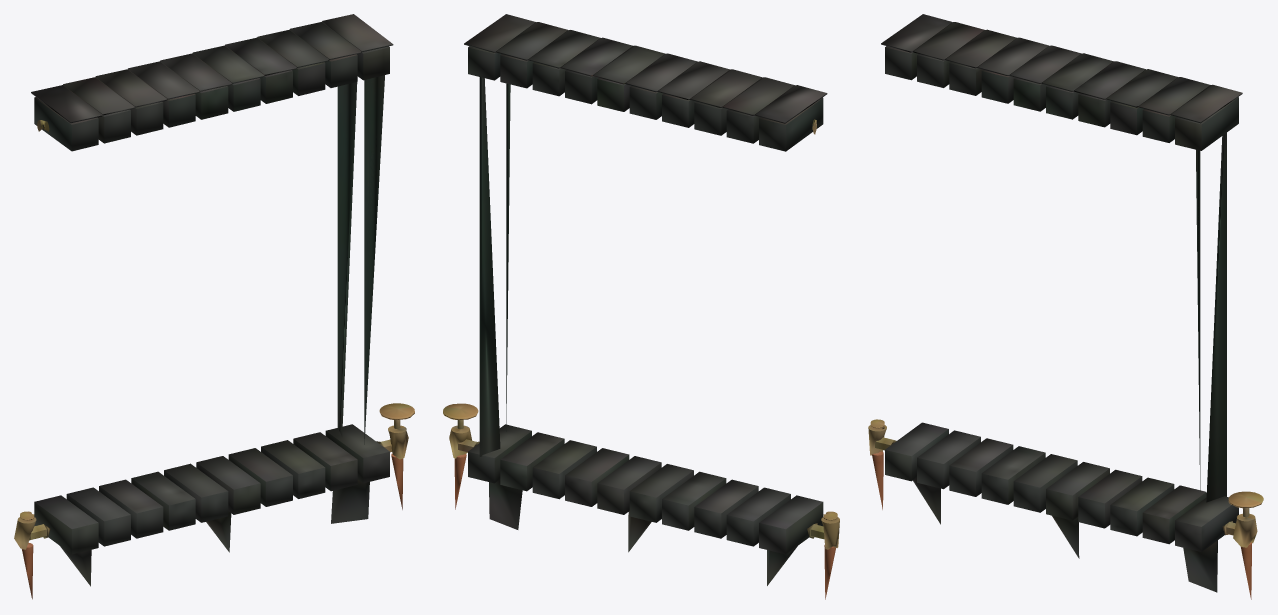
The model's file is column-radiator-10.glb.
3 renders of one model, left to right at view 1: azimuth 30°, elevation 25°; view 2: azimuth 150°, elevation 25°; view 3: azimuth 330°, elevation 25°, orthographic.
Parts seen in each view (by area): view 1: radiator, valve_wheel; view 2: radiator, valve_wheel; view 3: radiator, valve_wheel.
Boxes of the visible parts, x1,y1,x2,y2 form: radiator: [14, 14, 408, 599]; valve_wheel: [379, 403, 414, 428]; radiator: [449, 14, 839, 599]; valve_wheel: [443, 403, 478, 428]; radiator: [868, 14, 1257, 599]; valve_wheel: [1228, 491, 1263, 517].
Size of the model in its own units: 0.5784 by 0.6855 by 0.106.
1 material, 1 textured.
